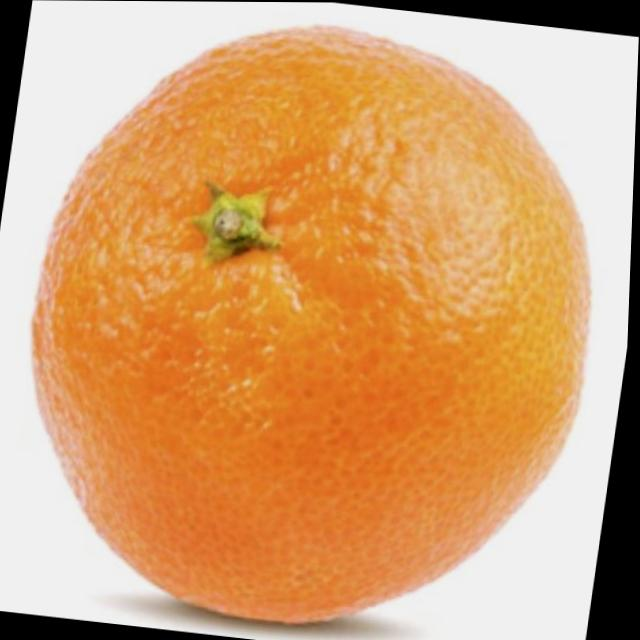Orange: (0, 0, 632, 640)
